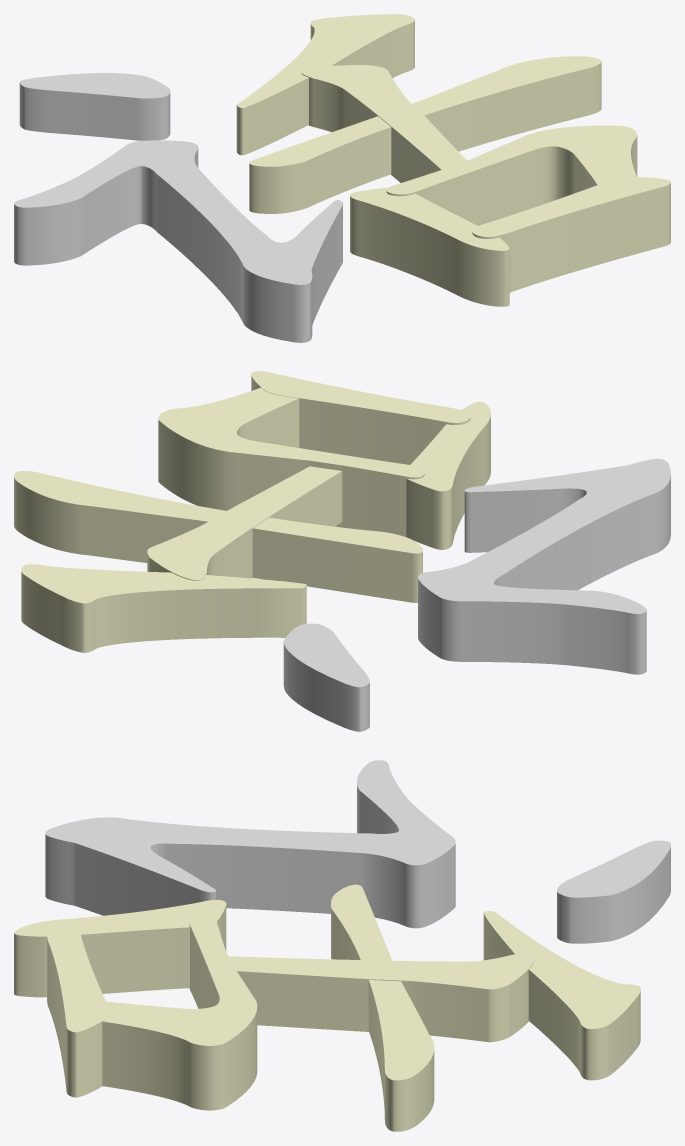
Rendered from hanzi226.fbx.
3 renders of one model, top to bottom at view 1: azimuth 30°, elevation 25°; view 2: azimuth 150°, elevation 25°; view 3: azimuth 270°, elevation 25°, orthographic. The views are drawn at different scales.
Visible parts, largest first — view 1: Curve.001, Curve.003, Curve.006, Curve.007, Curve.005, Curve.002, Curve, Curve.004; view 2: Curve.001, Curve.003, Curve.006, Curve.002, Curve.007, Curve.004, Curve.005, Curve; view 3: Curve.001, Curve.004, Curve.006, Curve.002, Curve.005, Curve.003, Curve, Curve.007.
Boxes of the visible parts, x1=… form: Curve.001: x1=14, y1=140, x2=342, y2=342; Curve.003: x1=249, y1=56, x2=601, y2=213; Curve.006: x1=386, y1=125, x2=637, y2=225; Curve.007: x1=472, y1=176, x2=670, y2=292; Curve.005: x1=350, y1=187, x2=509, y2=306; Curve.002: x1=236, y1=14, x2=414, y2=155; Curve: x1=19, y1=73, x2=170, y2=140; Curve.004: x1=301, y1=65, x2=466, y2=182; Curve.001: x1=418, y1=458, x2=670, y2=674; Curve.003: x1=14, y1=471, x2=422, y2=602; Curve.006: x1=158, y1=387, x2=424, y2=537; Curve.002: x1=21, y1=564, x2=306, y2=652; Curve.007: x1=251, y1=371, x2=470, y2=464; Curve.004: x1=147, y1=466, x2=342, y2=580; Curve.005: x1=406, y1=401, x2=490, y2=549; Curve: x1=283, y1=623, x2=369, y2=731; Curve.001: x1=45, y1=760, x2=455, y2=928; Curve.004: x1=228, y1=953, x2=534, y2=1042; Curve.006: x1=102, y1=914, x2=257, y2=1110; Curve.002: x1=483, y1=911, x2=640, y2=1080; Curve.005: x1=14, y1=899, x2=226, y2=997; Curve.003: x1=331, y1=884, x2=434, y2=1131; Curve: x1=557, y1=840, x2=670, y2=943; Curve.007: x1=47, y1=925, x2=109, y2=1097.
Size of the model in its own units: 24.67 by 21.78 by 2.39.
